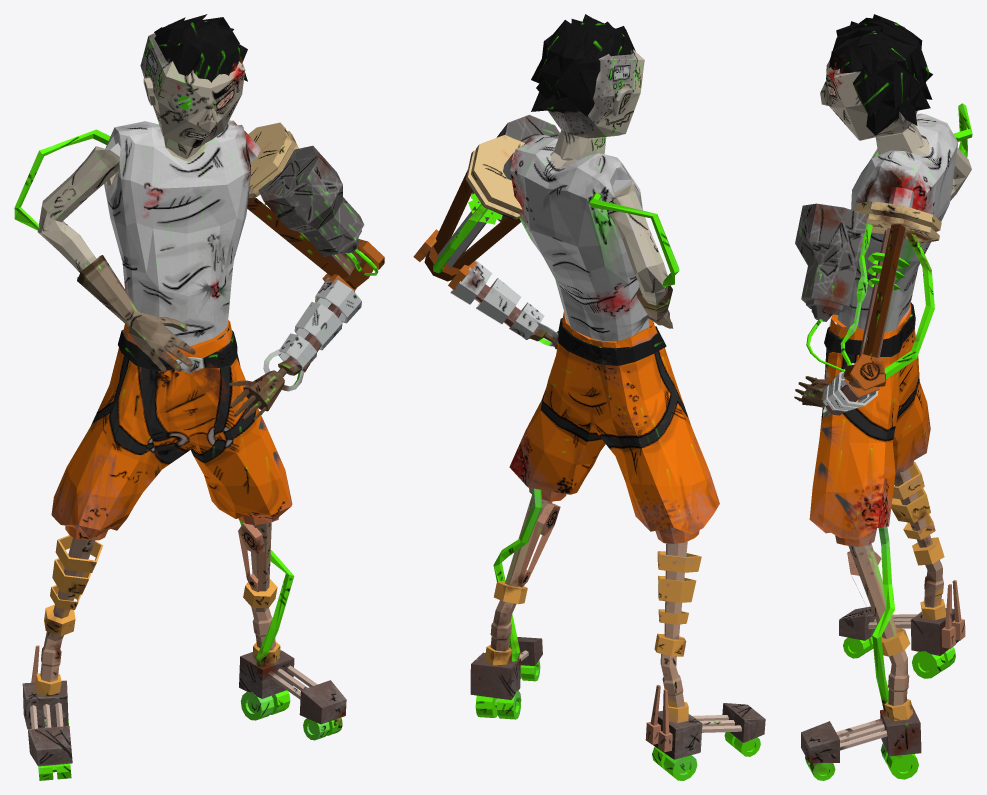
The model's file is CyborgFINALAnimation_000047.obj.
3 renders of one model, left to right at view 1: azimuth 30°, elevation 25°; view 2: azimuth 150°, elevation 25°; view 3: azimuth 270°, elevation 25°, orthographic. The views are drawn at different scales.
Parts seen in each view (by area): view 1: CyborgMesh_Cube.002; view 2: CyborgMesh_Cube.002; view 3: CyborgMesh_Cube.002.
Part boxes in pixels (<box>): CyborgMesh_Cube.002: <box>14,14,384,780</box>; CyborgMesh_Cube.002: <box>413,14,765,780</box>; CyborgMesh_Cube.002: <box>794,14,972,780</box>.
Size of the model in its own units: 4.87 by 9.6 by 2.18.
